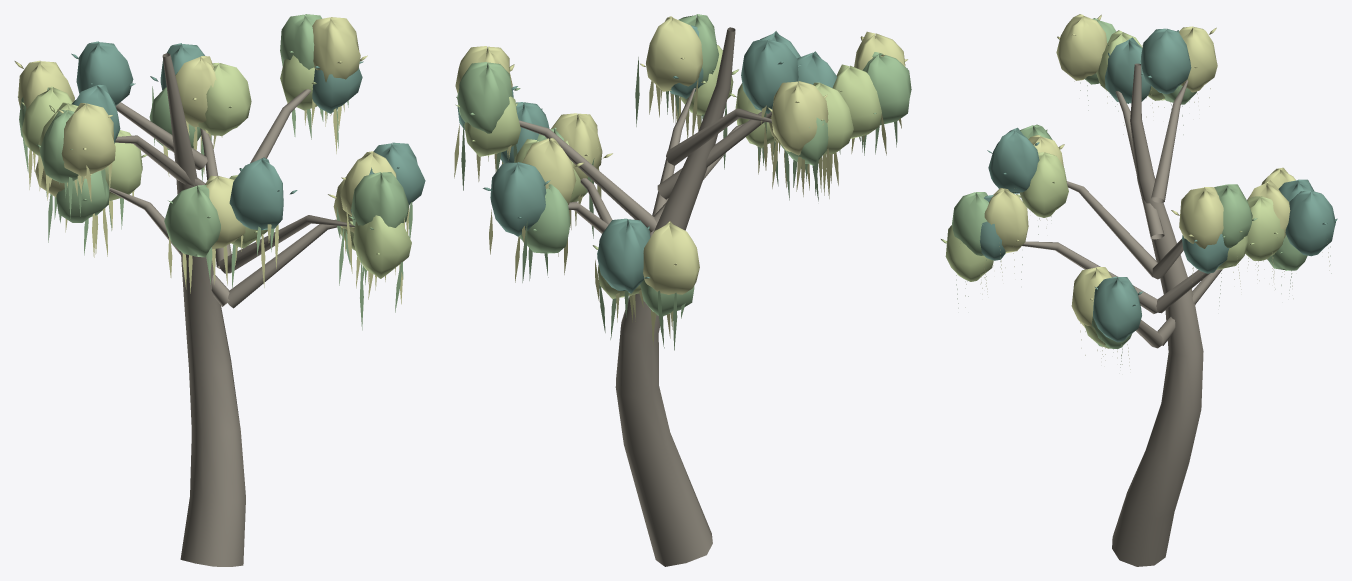
File: willow_swept.glb
The picture shows the model from 3 angles, left to right: view 1: azimuth 30°, elevation 25°; view 2: azimuth 150°, elevation 25°; view 3: azimuth 270°, elevation 25°; orthographic projection. The views are drawn at different scales.
Visible parts, largest first — view 1: willow_swept; view 2: willow_swept; view 3: willow_swept.
Boxes of the visible parts, x1,y1,x2,y2 form: willow_swept: (14, 14, 425, 566); willow_swept: (454, 14, 911, 566); willow_swept: (941, 14, 1337, 566).
Bounding box in the file's own units: 5.24 × 6.95 × 5.15.
